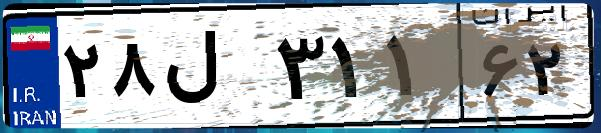1: (385, 28, 445, 110), (330, 28, 385, 110)
2: (57, 26, 110, 100), (525, 38, 570, 115)
3: (270, 28, 330, 110)
6: (475, 38, 525, 113)
8: (110, 28, 158, 98)
ل: (158, 20, 270, 120)
